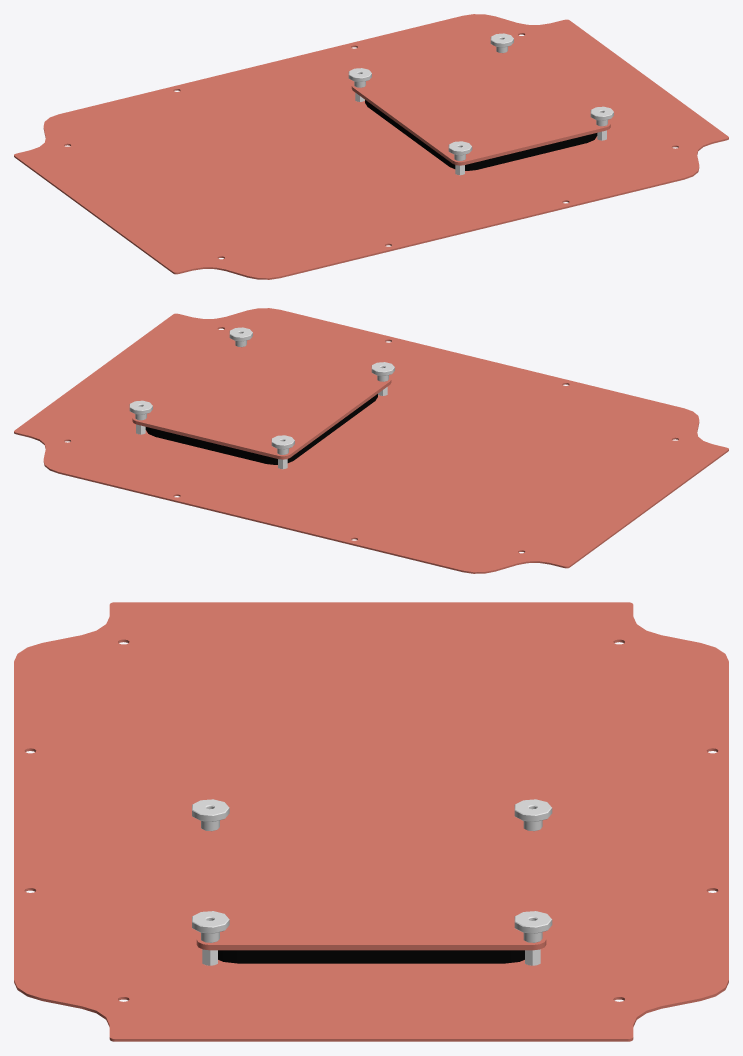
File: dev01.dae
3 views of the same model, one above another, from view 1: azimuth 30°, elevation 25°; view 2: azimuth 150°, elevation 25°; view 3: azimuth 270°, elevation 25° (orthographic). The views are drawn at different scales.
Visible parts, largest first — view 1: DEV01; view 2: DEV01; view 3: DEV01.
Boxes of the visible parts, bbox=[...] form: DEV01: bbox=[14, 14, 728, 279]; DEV01: bbox=[14, 308, 728, 573]; DEV01: bbox=[14, 602, 728, 1041].
Bounding box in the file's own units: 0.532 × 0.3679 × 0.0349.
